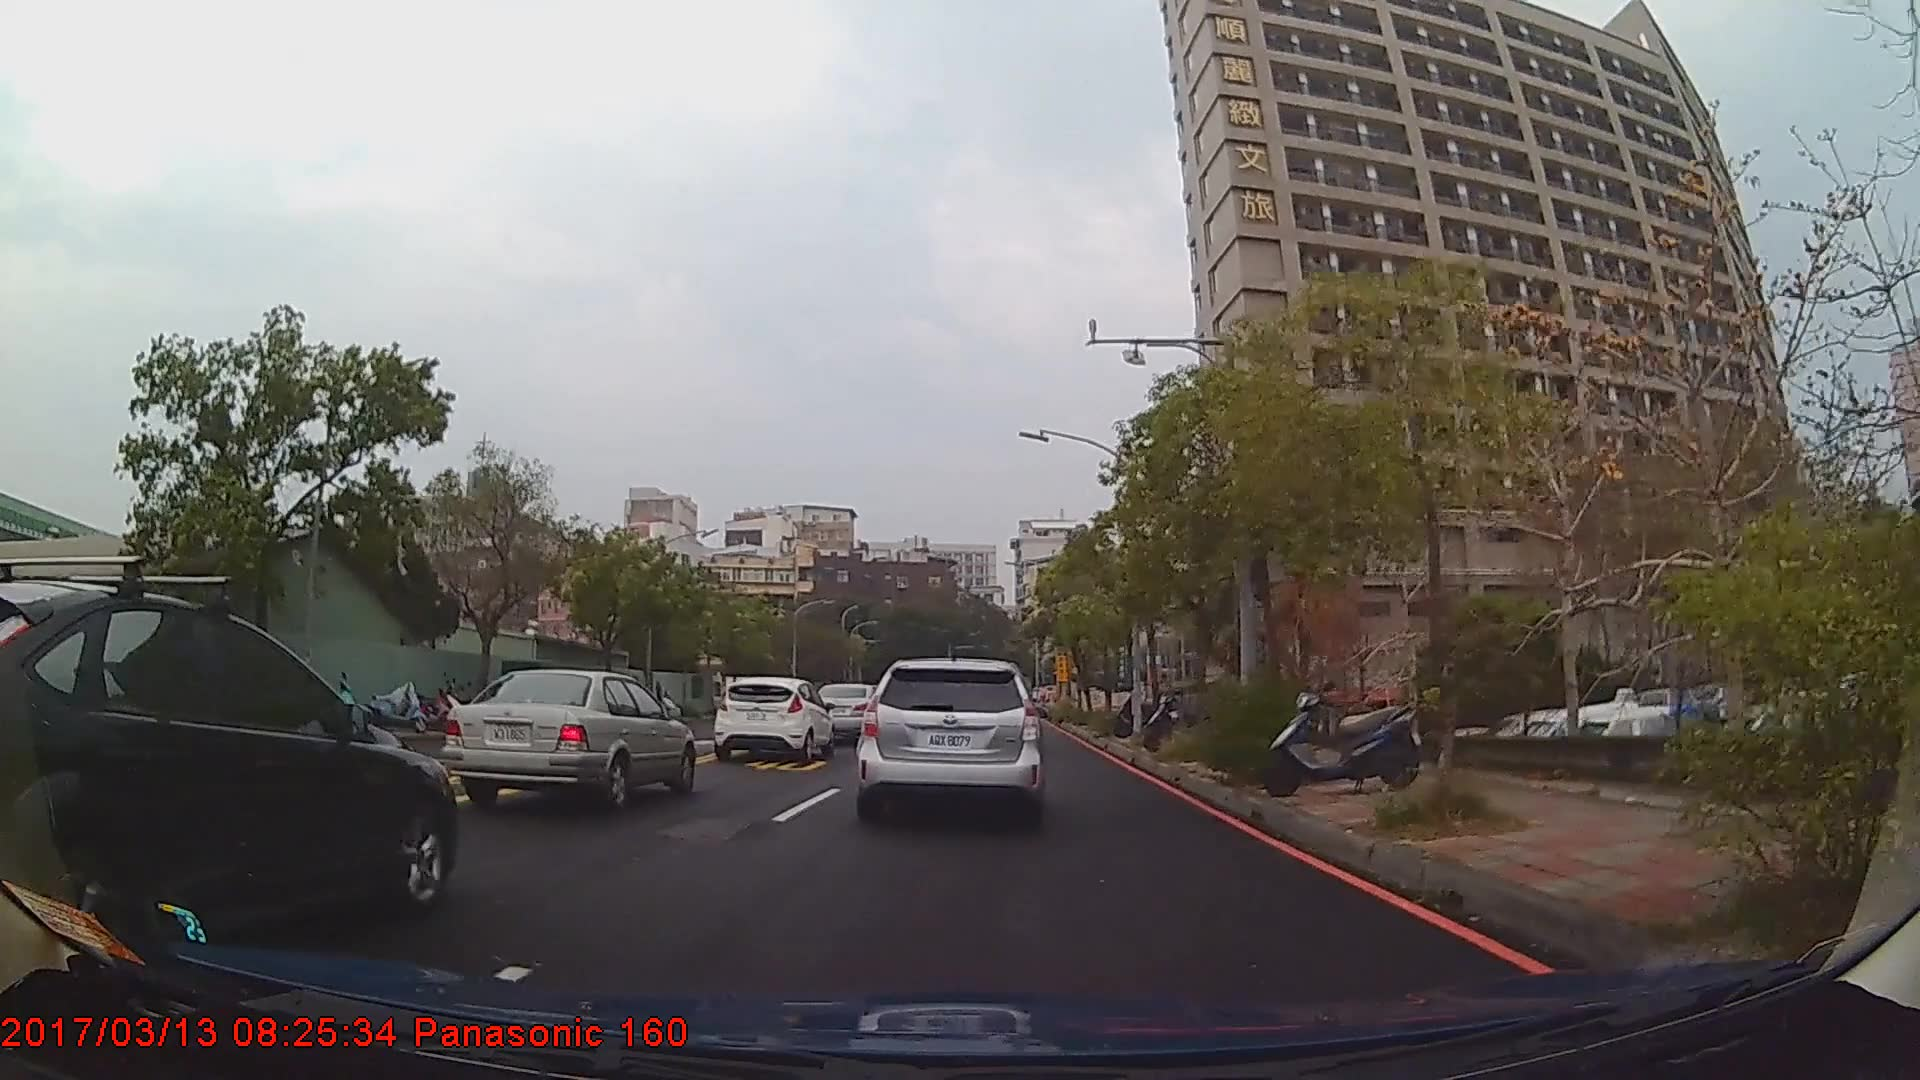vehicle: (0, 574, 458, 961), (442, 667, 695, 812), (853, 658, 1043, 825), (713, 675, 835, 761), (812, 682, 884, 744)
